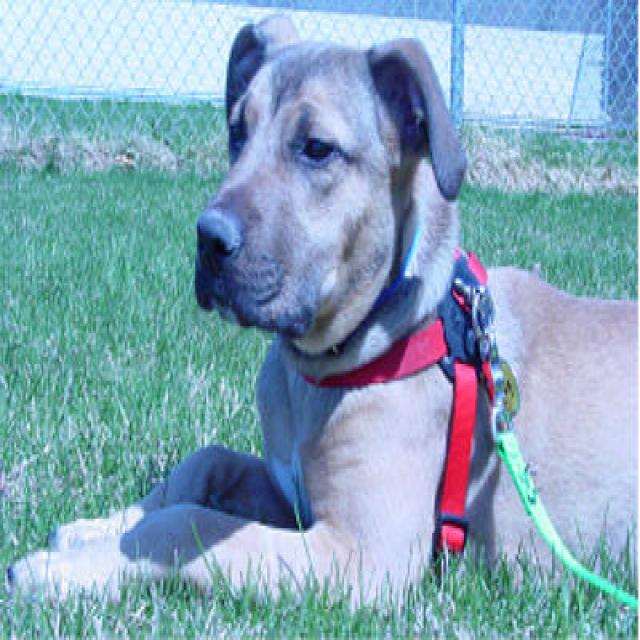Dogs: (5, 9, 637, 618)
